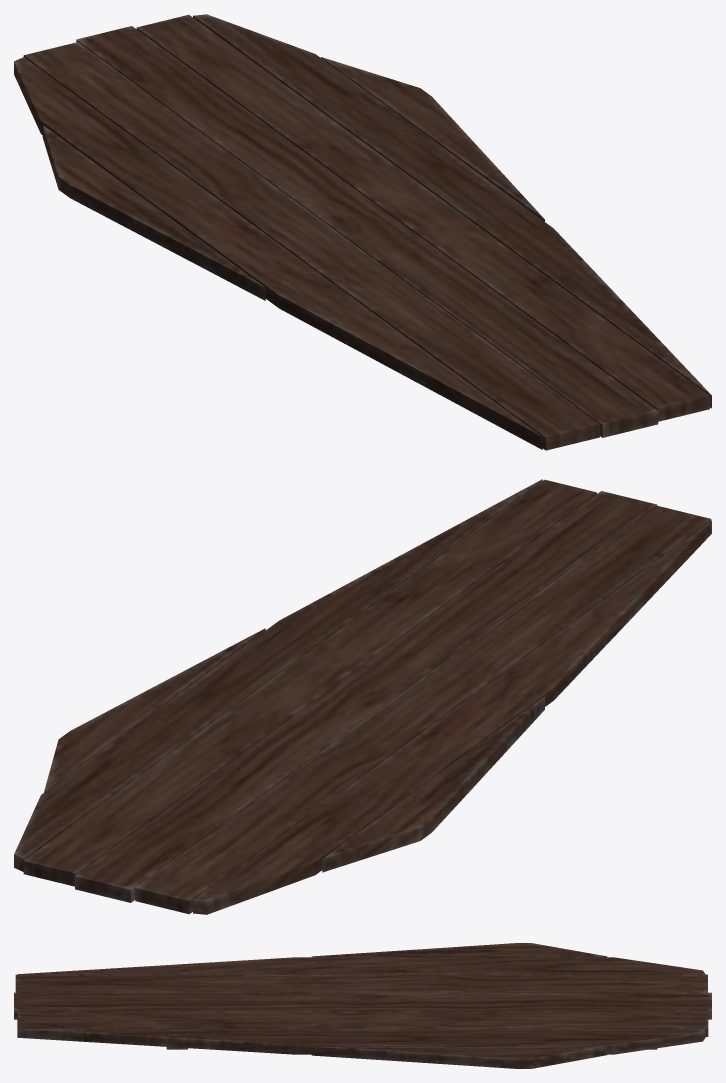
Rendered from SM_Coffin_Lid.glb.
3 renders of one model, top to bottom at view 1: azimuth 30°, elevation 25°; view 2: azimuth 150°, elevation 25°; view 3: azimuth 270°, elevation 25°, orthographic. The views are drawn at different scales.
Parts seen in each view (by area): view 1: SM_Coffin_Lid; view 2: SM_Coffin_Lid; view 3: SM_Coffin_Lid.
Part boxes in pixels (bbox=[...]): SM_Coffin_Lid: bbox=[14, 14, 711, 450]; SM_Coffin_Lid: bbox=[14, 479, 711, 914]; SM_Coffin_Lid: bbox=[14, 943, 711, 1068].
Bounding box in the file's own units: 0.78 × 0.0492 × 1.96.
1 material, 1 textured.
